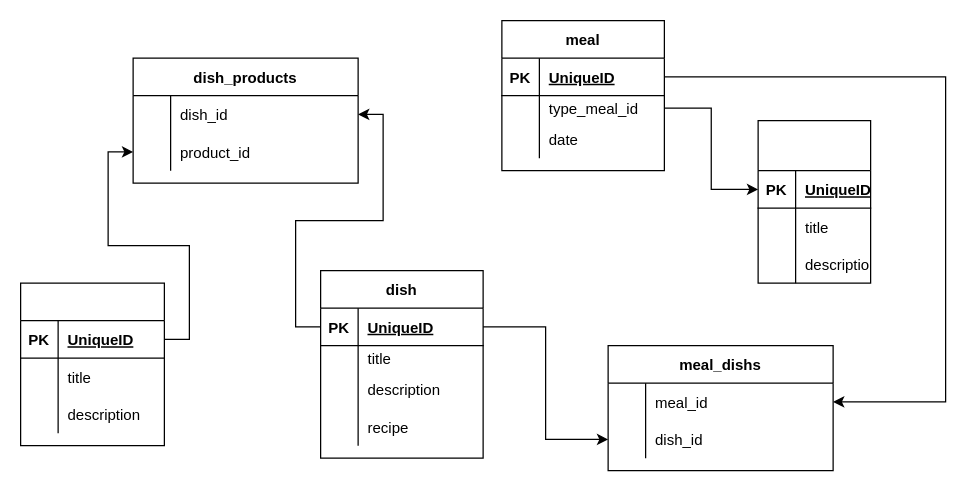
Some shapes in this 966 by 491 pixel diagram are drawn without their labels. Each missing label, with the box of its shape:
product: (19, 282, 164, 446)
type_meal: (757, 119, 871, 283)
